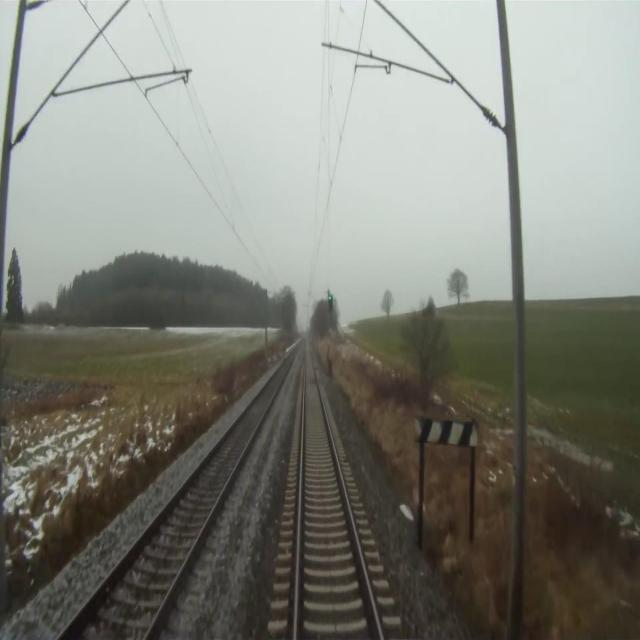rail-track: (60, 344, 298, 639), (298, 345, 379, 639)
